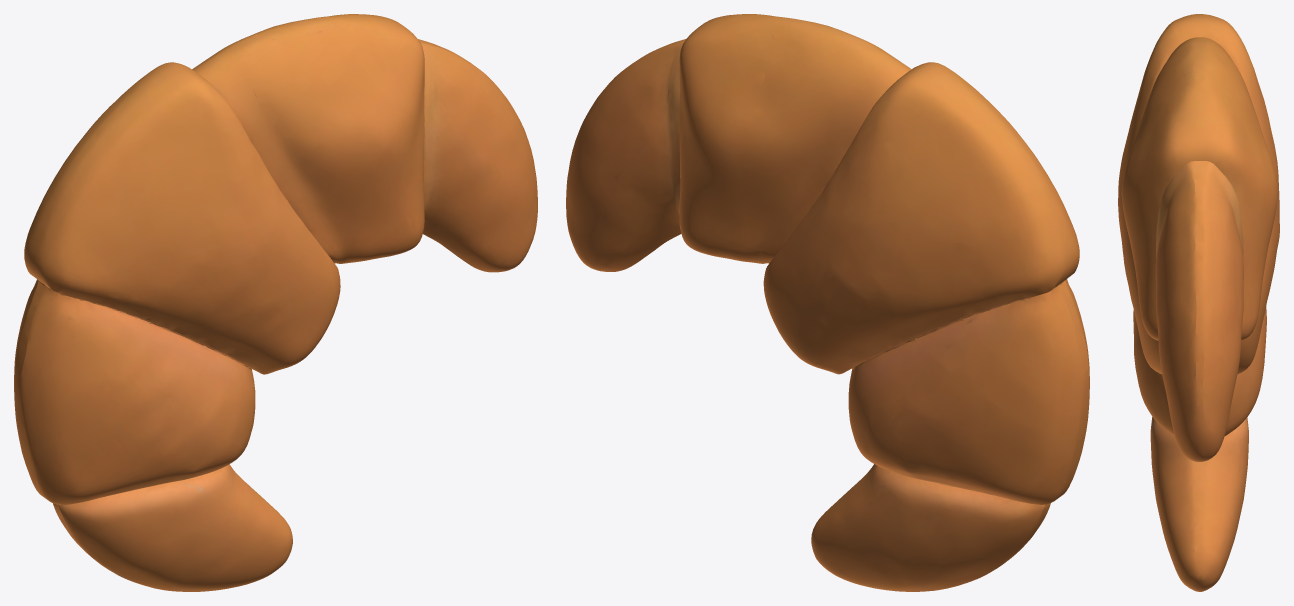
Rendered from croissant.glb.
The picture shows the model from 3 angles, left to right: view 1: azimuth 30°, elevation 25°; view 2: azimuth 150°, elevation 25°; view 3: azimuth 270°, elevation 25°; orthographic projection.
Visible parts, largest first — view 1: model; view 2: model; view 3: model.
Boxes of the visible parts, <box> form: model: <box>14,14,537,591</box>; model: <box>566,14,1089,591</box>; model: <box>1118,14,1279,591</box>.
Size of the model in its own units: 0.9929 by 1 by 0.2673.
1 material, 1 textured.
